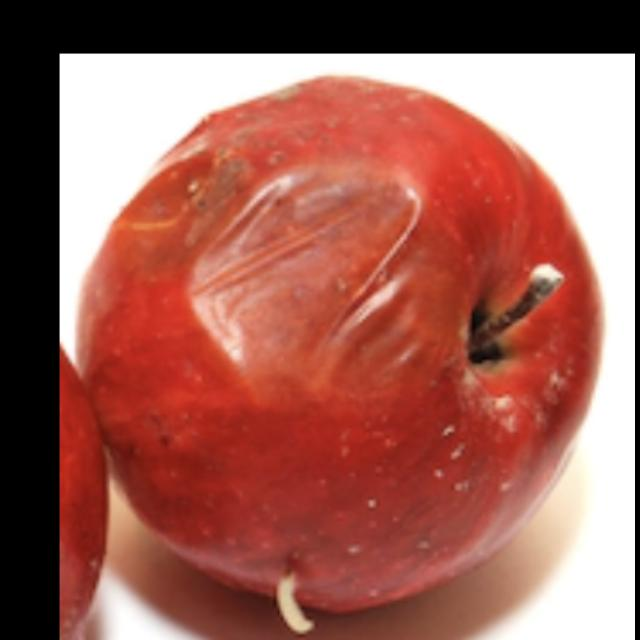Apel Tidak Segar: (75, 65, 610, 608)
